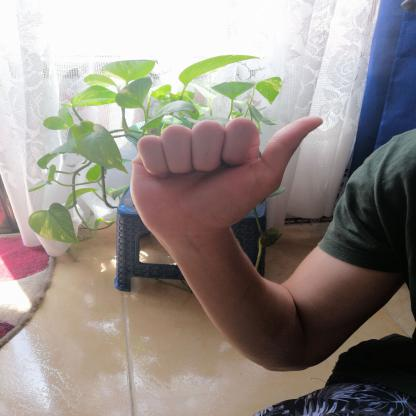DAD: (119, 106, 335, 246)
